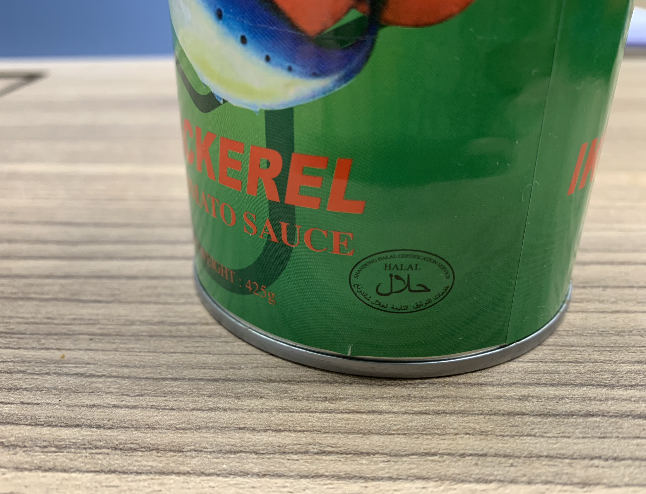halal: (365, 260, 432, 302)
